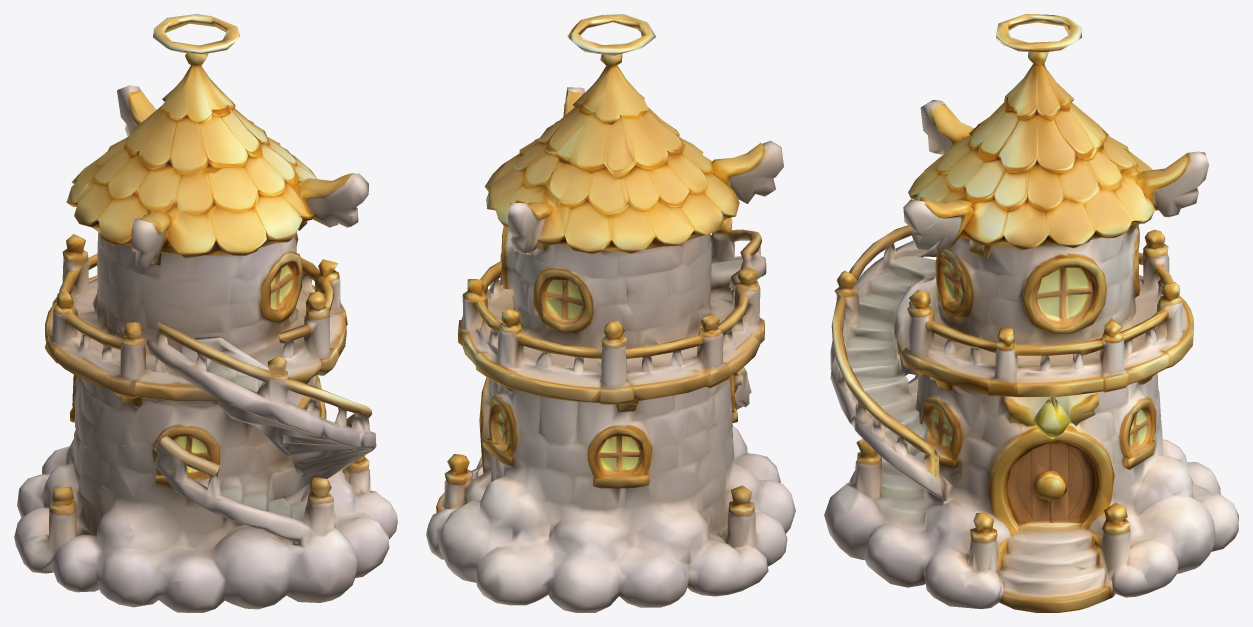
File: Town_Halo_HouseB_raw.glb
3 views of the same model, side by side, from view 1: azimuth 30°, elevation 25°; view 2: azimuth 150°, elevation 25°; view 3: azimuth 270°, elevation 25° (orthographic).
Parts seen in each view (by area): view 1: tripo_node_22136492-c207-4279-8cac-a93a65a5a88e; view 2: tripo_node_22136492-c207-4279-8cac-a93a65a5a88e; view 3: tripo_node_22136492-c207-4279-8cac-a93a65a5a88e.
Boxes of the visible parts, x1,y1,x2,y2 form: tripo_node_22136492-c207-4279-8cac-a93a65a5a88e: (14, 14, 397, 612); tripo_node_22136492-c207-4279-8cac-a93a65a5a88e: (426, 14, 795, 612); tripo_node_22136492-c207-4279-8cac-a93a65a5a88e: (824, 14, 1238, 612).
Size of the model in its own units: 0.6639 by 1 by 0.7404.
1 material, 1 textured.
